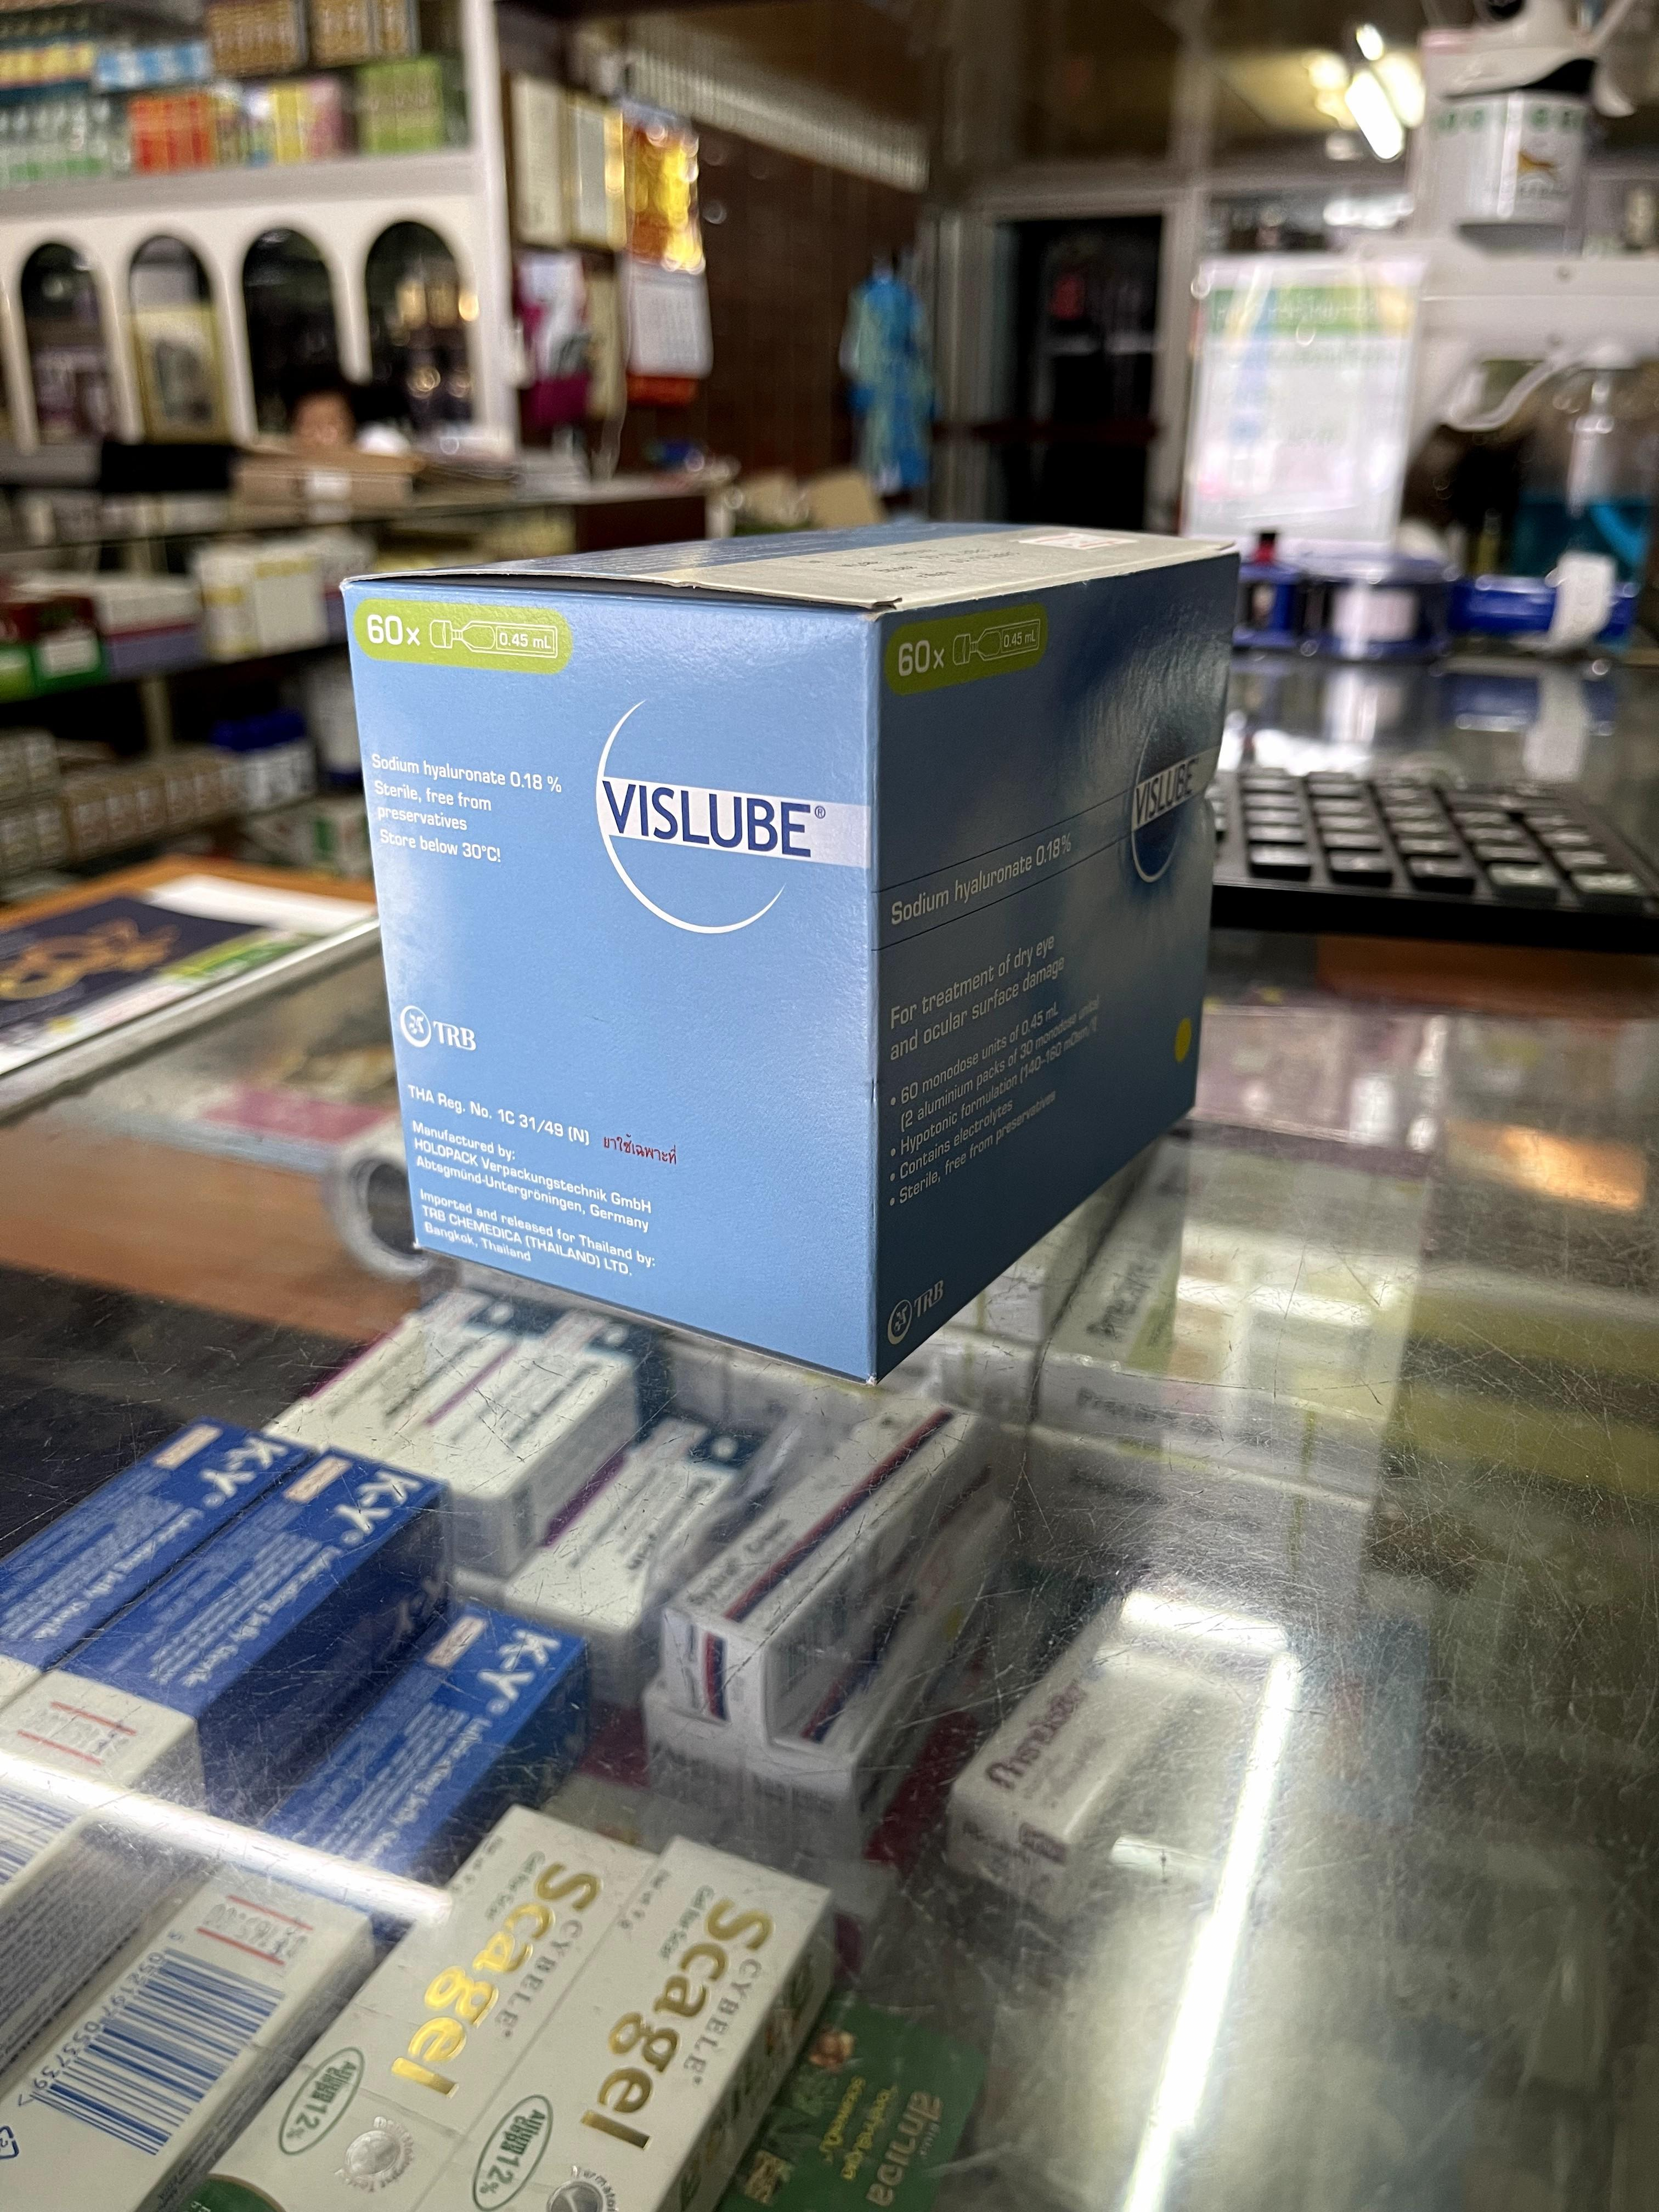Vislube60: (345, 524, 1239, 1385)
